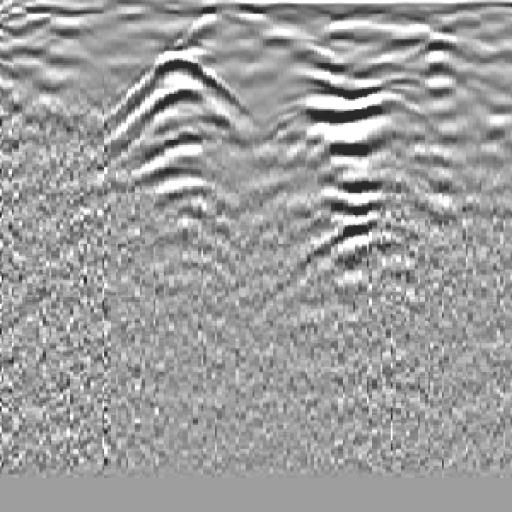metalic: (276, 31, 440, 279), (89, 34, 264, 233)
